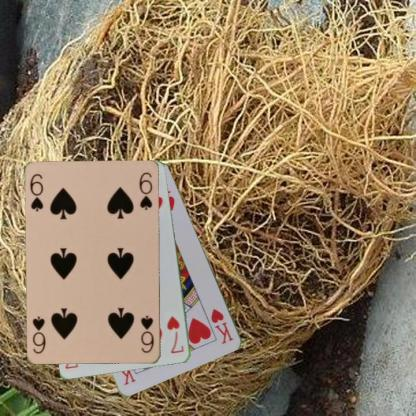6s: (138, 312, 156, 354), (28, 171, 45, 213)
7h: (164, 314, 186, 354)
Kh: (209, 306, 235, 346)
